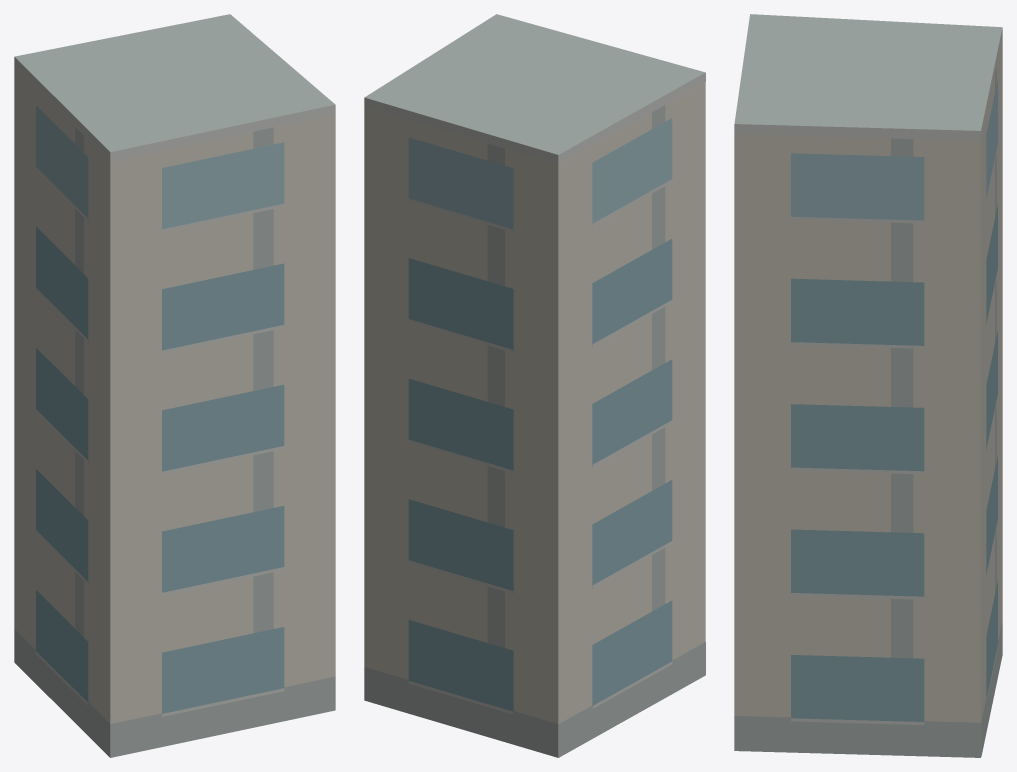
The model's file is survey-upis-32648057.glb.
3 renders of one model, left to right at view 1: azimuth 30°, elevation 25°; view 2: azimuth 150°, elevation 25°; view 3: azimuth 270°, elevation 25°, orthographic. The views are drawn at different scales.
Visible parts, largest first — view 1: survey-upis-32648057.tmp; view 2: survey-upis-32648057.tmp; view 3: survey-upis-32648057.tmp.
Part boxes in pixels (box(x1,y1,x2,y2)): survey-upis-32648057.tmp: box(14, 14, 335, 757); survey-upis-32648057.tmp: box(364, 14, 705, 757); survey-upis-32648057.tmp: box(734, 14, 1002, 757).
Size of the model in its own units: 6.11 by 15.25 by 5.92.
